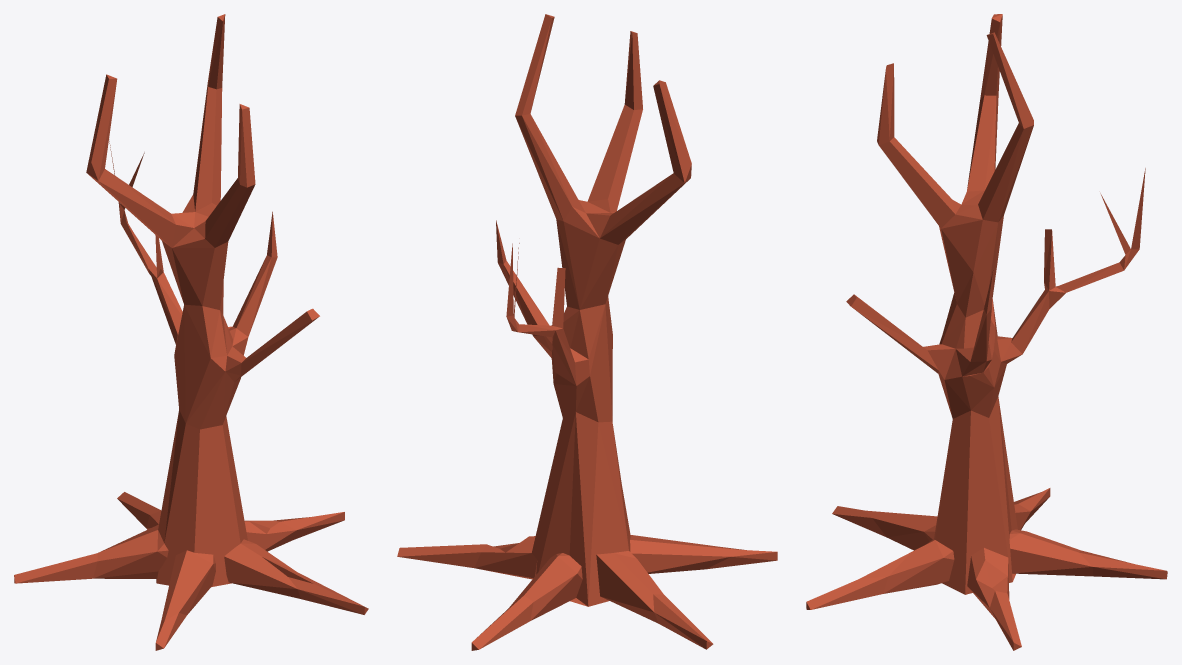
File: tree_D_02.fbx
3 views of the same model, side by side, from view 1: azimuth 30°, elevation 25°; view 2: azimuth 150°, elevation 25°; view 3: azimuth 270°, elevation 25° (orthographic). The views are drawn at different scales.
Parts seen in each view (by area): view 1: tree_D_02; view 2: tree_D_02; view 3: tree_D_02.
Boxes of the visible parts, <box> form: tree_D_02: <box>14,14,368,650</box>; tree_D_02: <box>397,14,777,650</box>; tree_D_02: <box>806,14,1167,650</box>.
Bounding box in the file's own units: 156 × 259 × 153.
